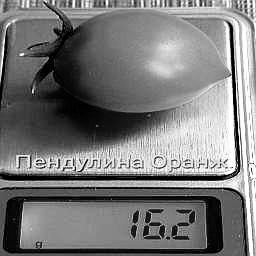bukan telur: (52, 8, 233, 111)
